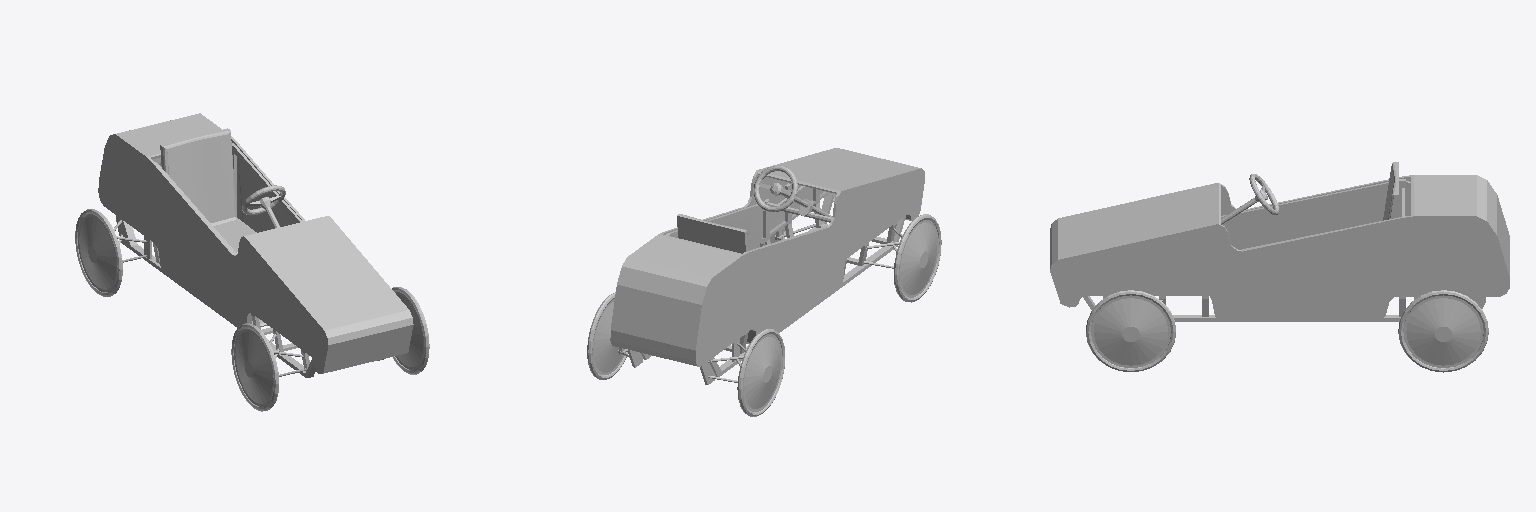
File: Soapbox_Car.obj
The picture shows the model from 3 angles: view 1: azimuth 30°, elevation 25°; view 2: azimuth 150°, elevation 25°; view 3: azimuth 270°, elevation 25°; orthographic projection.
Parts seen in each view (by area): view 1: Car, FR_Wheel, RR_Wheel, FL_Wheel, Steerwheel; view 2: Car, FR_Wheel, RR_Wheel, RL_Wheel, Steerwheel; view 3: Car, RL_Wheel, FL_Wheel, Steerwheel.
Part boxes in pixels (left/top/right/bottom): Car: left=98, top=113, right=413, bottom=377; FR_Wheel: left=231, top=323, right=278, bottom=411; RR_Wheel: left=75, top=209, right=122, bottom=296; FL_Wheel: left=392, top=287, right=429, bottom=374; Steerwheel: left=242, top=185, right=285, bottom=227; Car: left=610, top=148, right=924, bottom=384; FR_Wheel: left=894, top=214, right=941, bottom=302; RR_Wheel: left=737, top=329, right=784, bottom=416; RL_Wheel: left=587, top=292, right=627, bottom=379; Steerwheel: left=754, top=166, right=831, bottom=216; Car: left=1050, top=162, right=1509, bottom=321; RL_Wheel: left=1398, top=290, right=1488, bottom=372; FL_Wheel: left=1086, top=290, right=1175, bottom=371; Steerwheel: left=1221, top=174, right=1278, bottom=224.
Size of the model in its own units: 0.7731 by 0.7216 by 1.89.